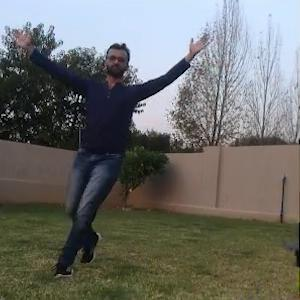takeoff: (17, 33, 215, 271)
